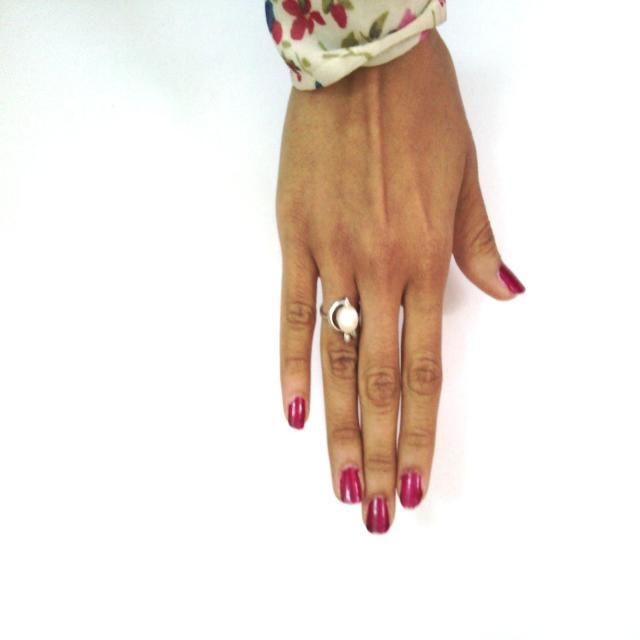Fingernail: (400, 470, 423, 509), (340, 466, 363, 504), (367, 497, 390, 534), (500, 264, 526, 293), (288, 397, 306, 429)
